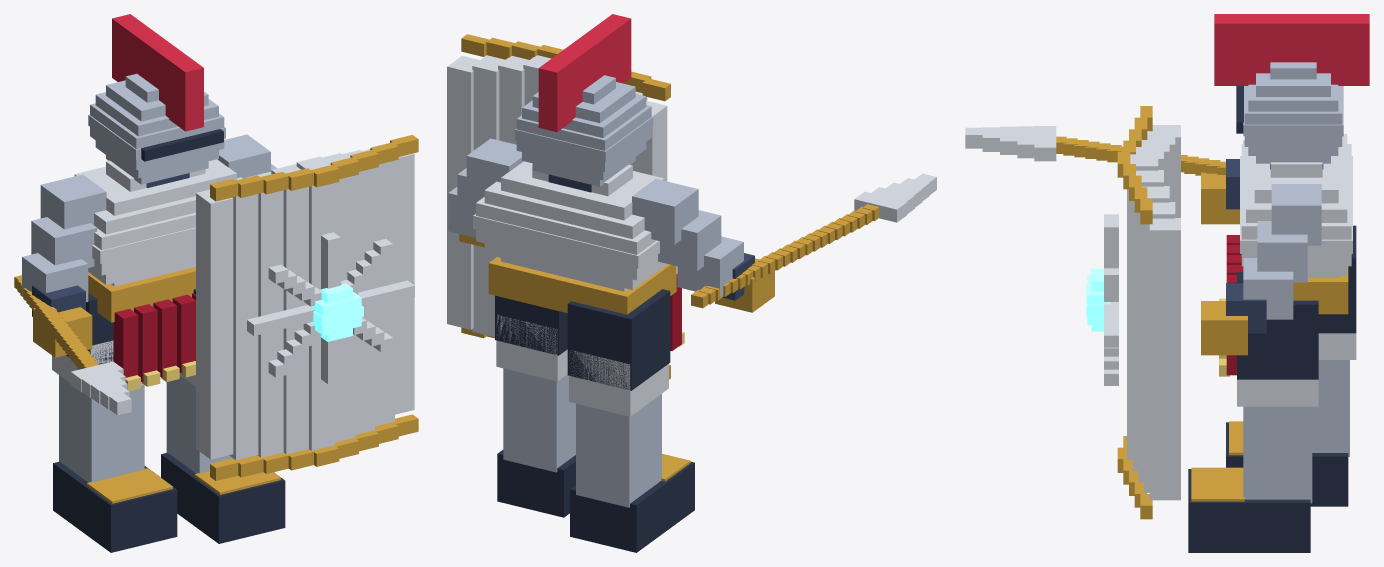
The model's file is arena-hoplite.glb.
3 views of the same model, side by side, from view 1: azimuth 30°, elevation 25°; view 2: azimuth 150°, elevation 25°; view 3: azimuth 270°, elevation 25° (orthographic). The views are drawn at different scales.
Visible parts, largest first — view 1: TowerShield, Boots, Trim, Armor, Arms, Greaves, Emblem, Head, Cloth, Crest, Spear, Belt (+4 smaller); view 2: Armor, Greaves, TowerShield, Cloth, Arms, Boots, Head, Knees, Crest, Spear, Belt, Trim (+1 smaller); view 3: TowerShield, Crest, Greaves, Arms, Head, Boots, Armor, Cloth, Trim, Spear, Hands, Knees (+3 smaller).
Part boxes in pixels (x1,y1,x2,y2): TowerShield: (196,149,414,460); Boots: (53,452,285,552); Trim: (87,135,418,503); Armor: (74,159,242,286); Arms: (22,134,277,316); Greaves: (59,375,234,482); Emblem: (247,232,414,384); Head: (88,73,225,184); Cloth: (66,289,195,382); Crest: (112,14,203,131); Spear: (14,275,131,415); Belt: (88,267,195,322); Armor: (473,161,667,291); Greaves: (503,368,661,507); TowerShield: (447,55,667,337); Cloth: (495,274,681,390); Arms: (448,138,754,300); Boots: (497,450,694,552); Head: (515,75,653,186); Knees: (496,314,668,416); Crest: (538,14,631,132); Spear: (691,173,936,308); Belt: (488,257,676,314); Trim: (461,34,690,481); TowerShield: (1127,125,1180,500); Crest: (1214,14,1369,85); Greaves: (1243,360,1349,503); Arms: (1226,140,1321,333); Head: (1243,62,1343,163); Boots: (1188,422,1348,552); Armor: (1240,134,1352,277); Cloth: (1226,225,1356,379); Trim: (1117,106,1244,519); Spear: (965,126,1225,175); Hands: (1201,172,1247,355); Knees: (1237,333,1356,406).
Size of the model in its own units: 1.58 by 1.82 by 1.35.
